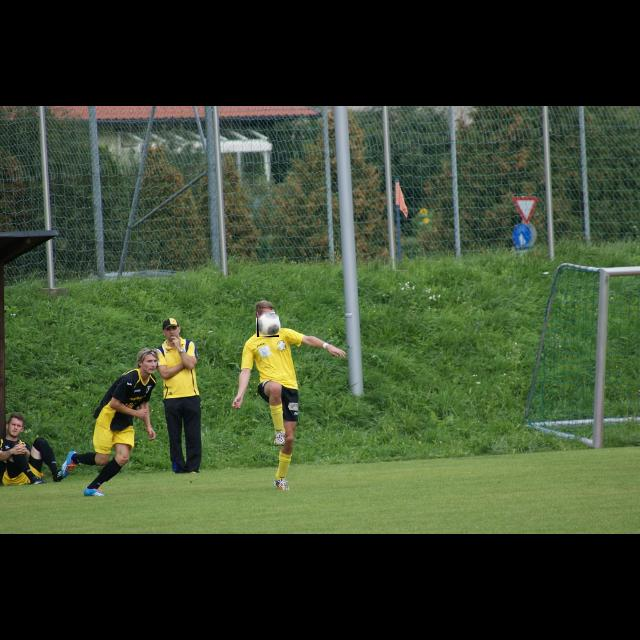Football: (257, 313, 279, 337)
